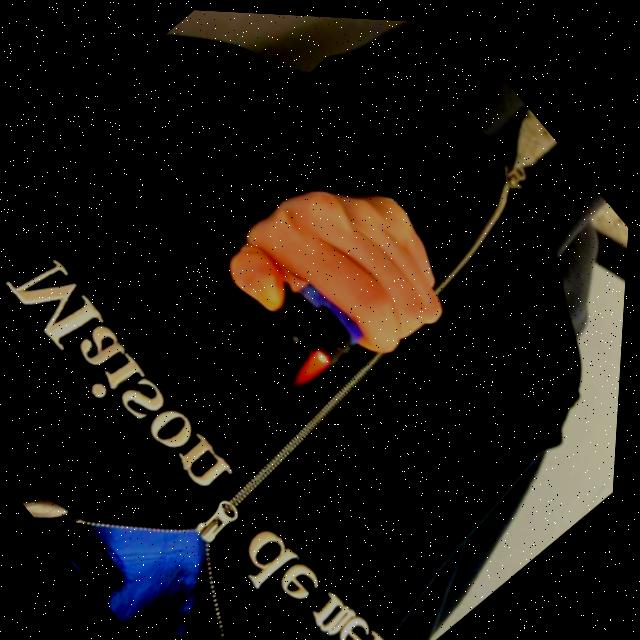Fire: (291, 346, 333, 388)
